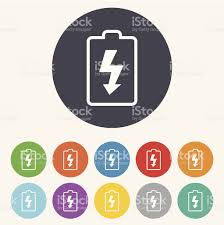charging sign: (79, 26, 143, 112)
